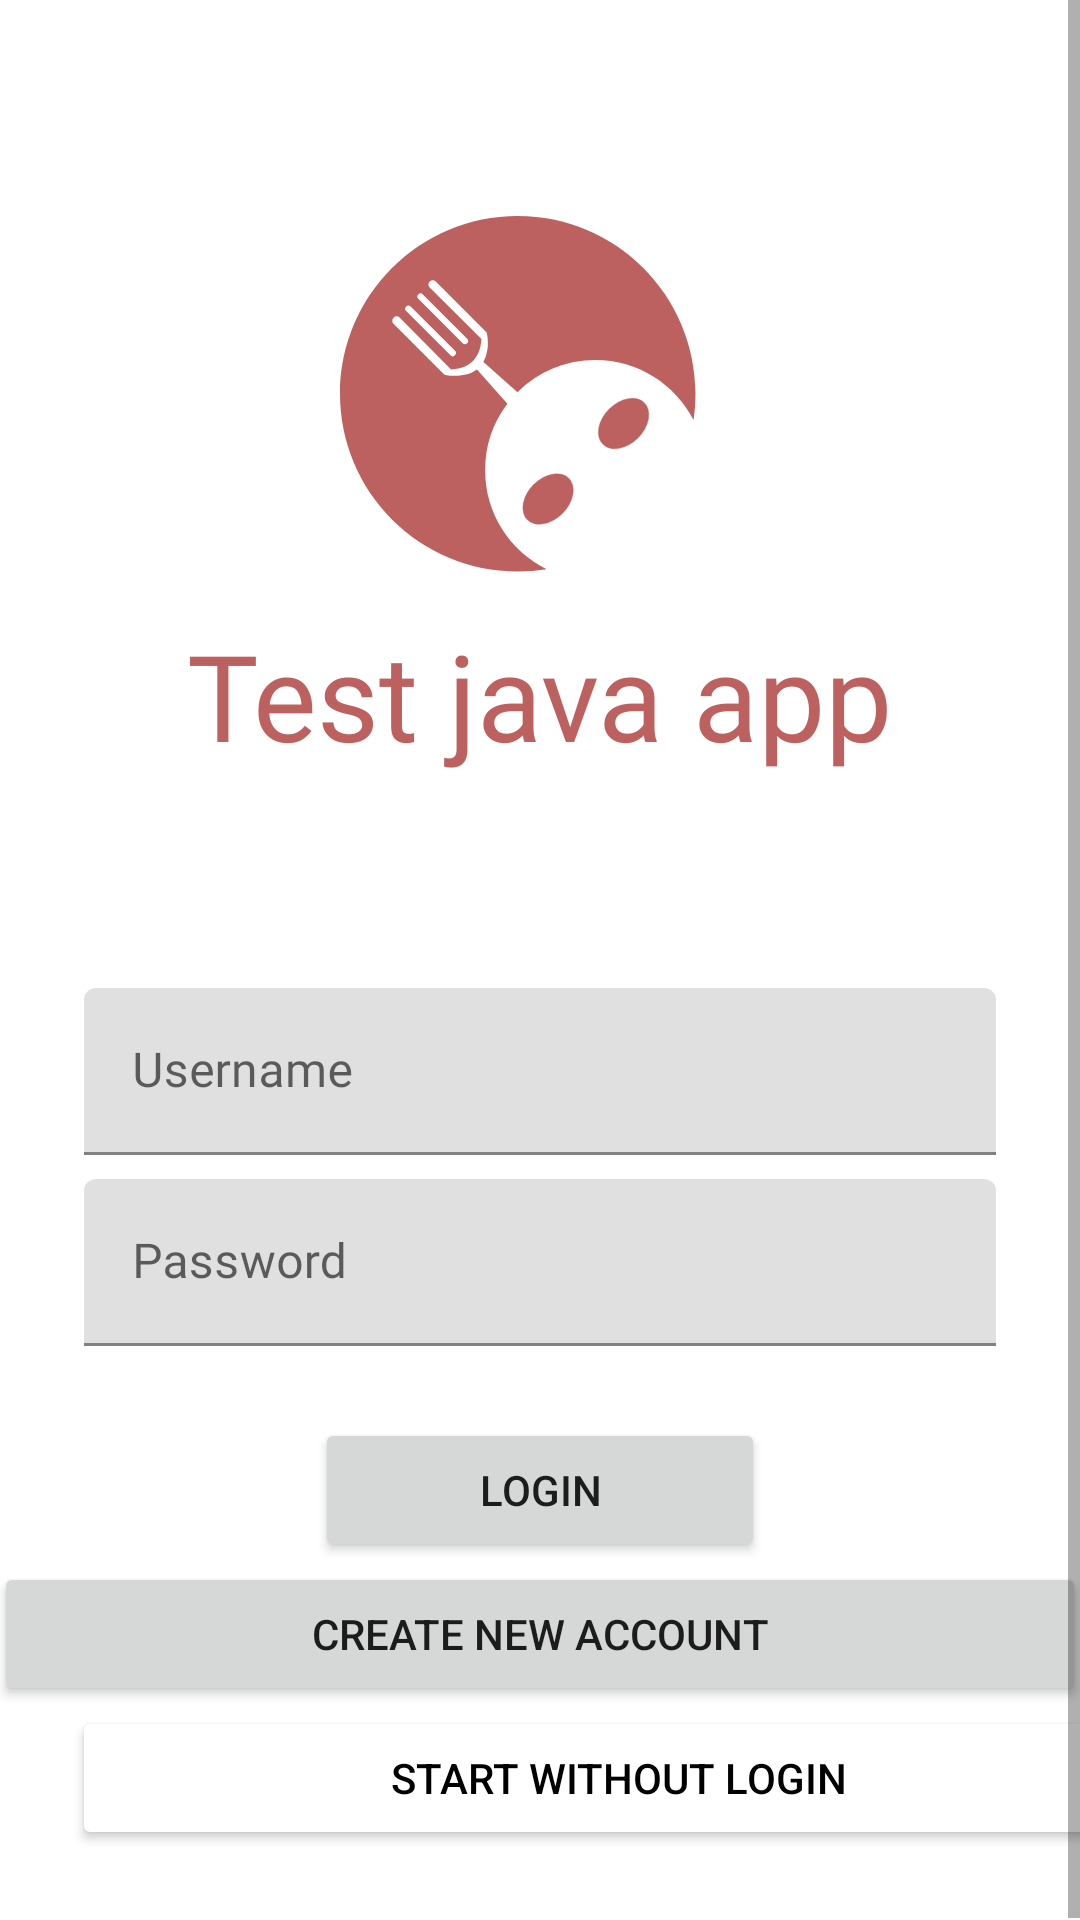

Screen size 1080*1920. Icon name, then its box in pixels as (x1, y1, x2, y2):
lunchbot: (340, 216, 696, 572)
